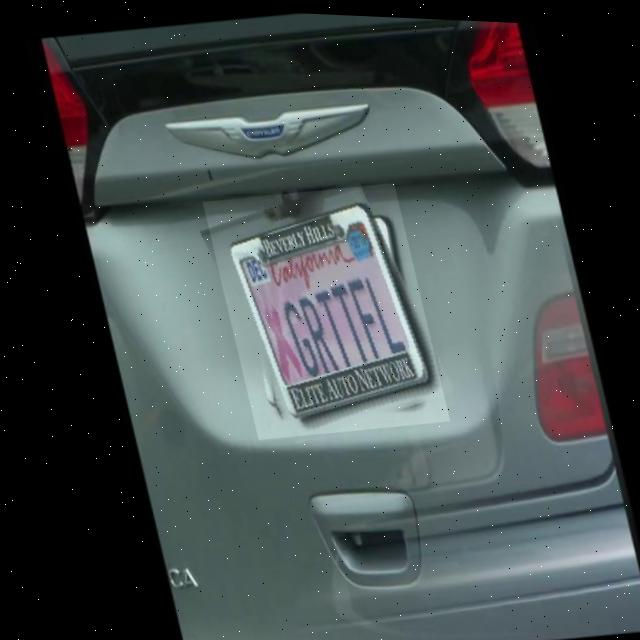LicensePlate: (198, 173, 445, 445)
